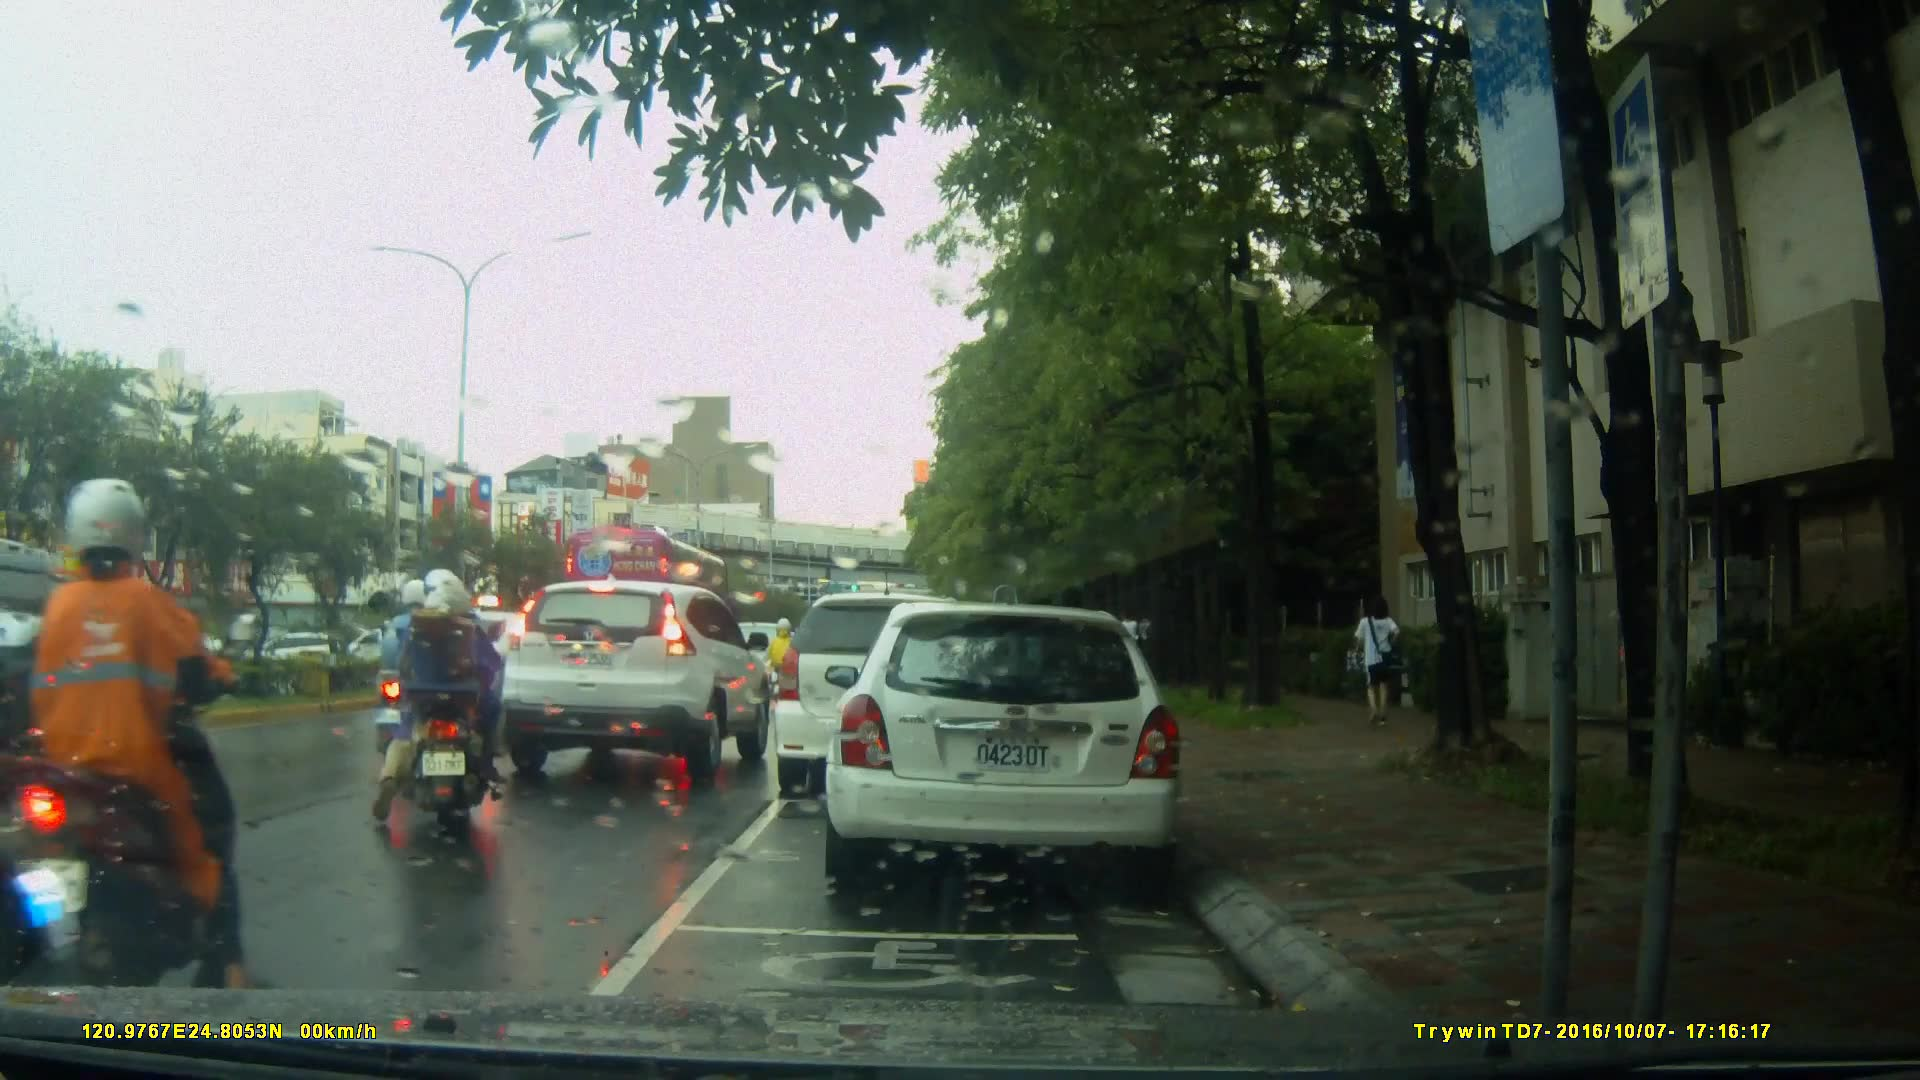pedestrian: (1341, 585, 1407, 744), (1117, 602, 1152, 689)
rider: (1, 478, 288, 1016), (369, 571, 517, 830), (365, 584, 447, 786), (766, 614, 798, 712)
vehicle: (835, 594, 1194, 898), (495, 581, 780, 784), (776, 590, 1026, 784), (560, 525, 732, 636)
